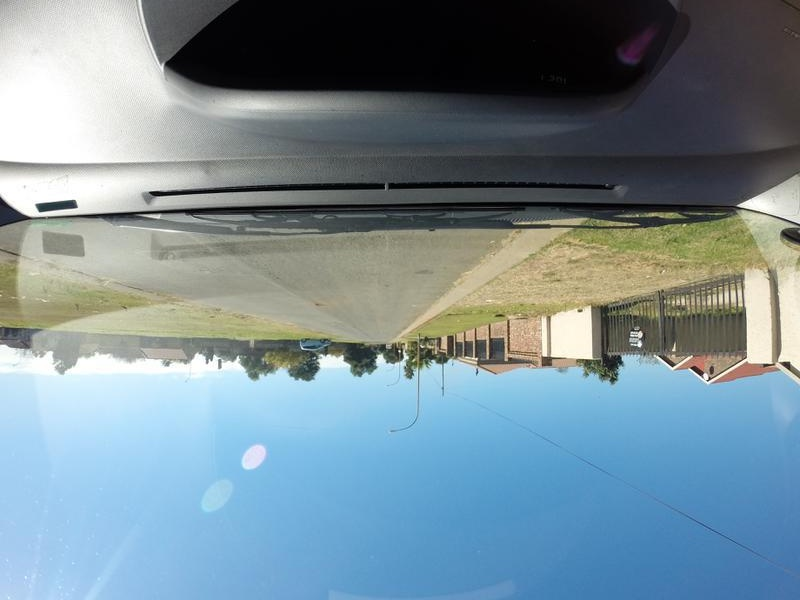pothole: (317, 298, 320, 309)
